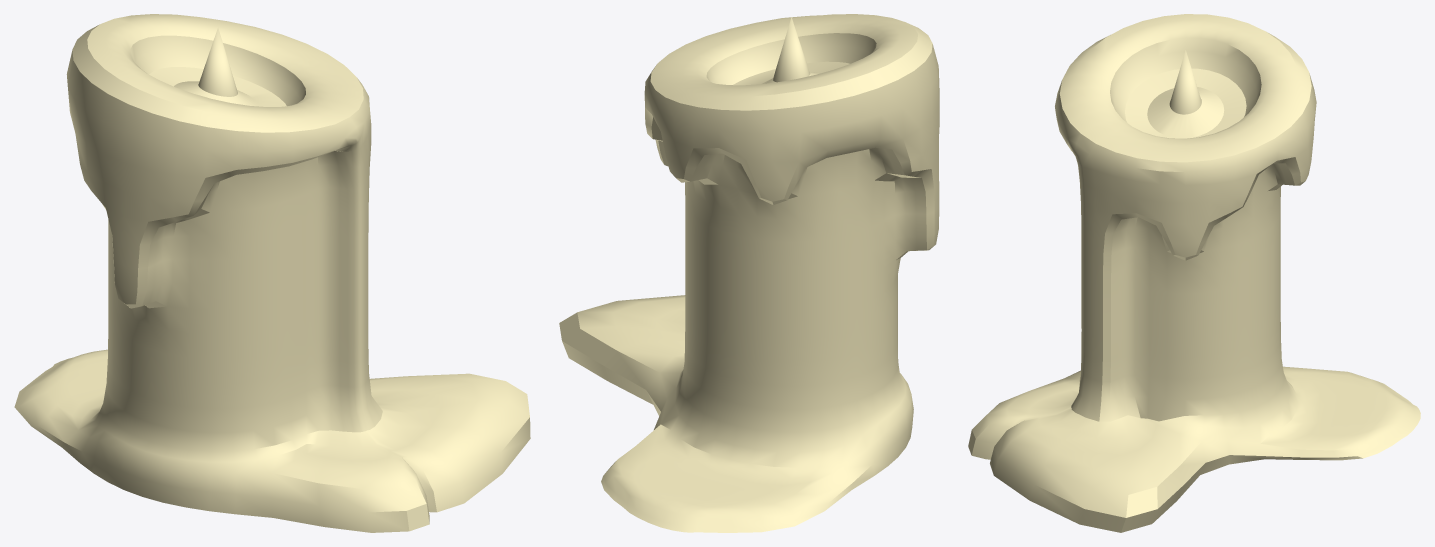
The model's file is medium candle.fbx.
3 renders of one model, left to right at view 1: azimuth 30°, elevation 25°; view 2: azimuth 150°, elevation 25°; view 3: azimuth 270°, elevation 25°, orthographic. The views are drawn at different scales.
Visible parts, largest first — view 1: medium candle; view 2: medium candle; view 3: medium candle.
Part boxes in pixels (bbox=[...]): medium candle: bbox=[14, 14, 530, 532]; medium candle: bbox=[559, 14, 939, 532]; medium candle: bbox=[968, 14, 1420, 532].
Bounding box in the file's own units: 22.25 × 22.35 × 24.8.
